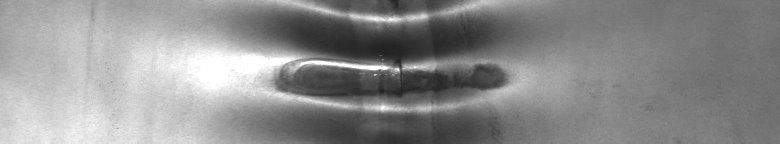ke: (268, 4, 512, 120)
